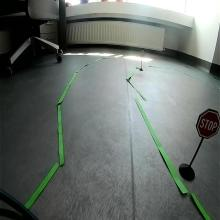stop: (196, 107, 220, 141)
